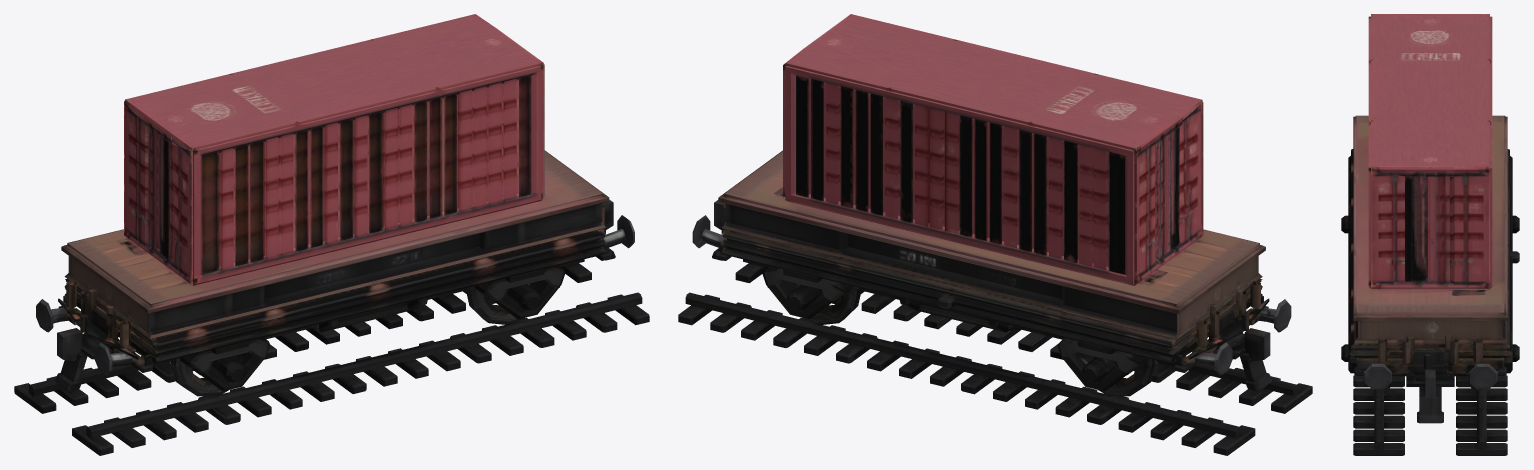
File: Rail.fbx
3 views of the same model, side by side, from view 1: azimuth 30°, elevation 25°; view 2: azimuth 150°, elevation 25°; view 3: azimuth 270°, elevation 25° (orthographic). The views are drawn at different scales.
Visible parts, largest first — view 1: temp; view 2: temp; view 3: temp.
Part boxes in pixels (box(x1,y1,x2,y2)): temp: box(14, 14, 649, 455); temp: box(678, 14, 1312, 455); temp: box(1341, 14, 1519, 455).
Size of the model in its own units: 189 by 90.41 by 59.1.
1 material, 1 textured.
